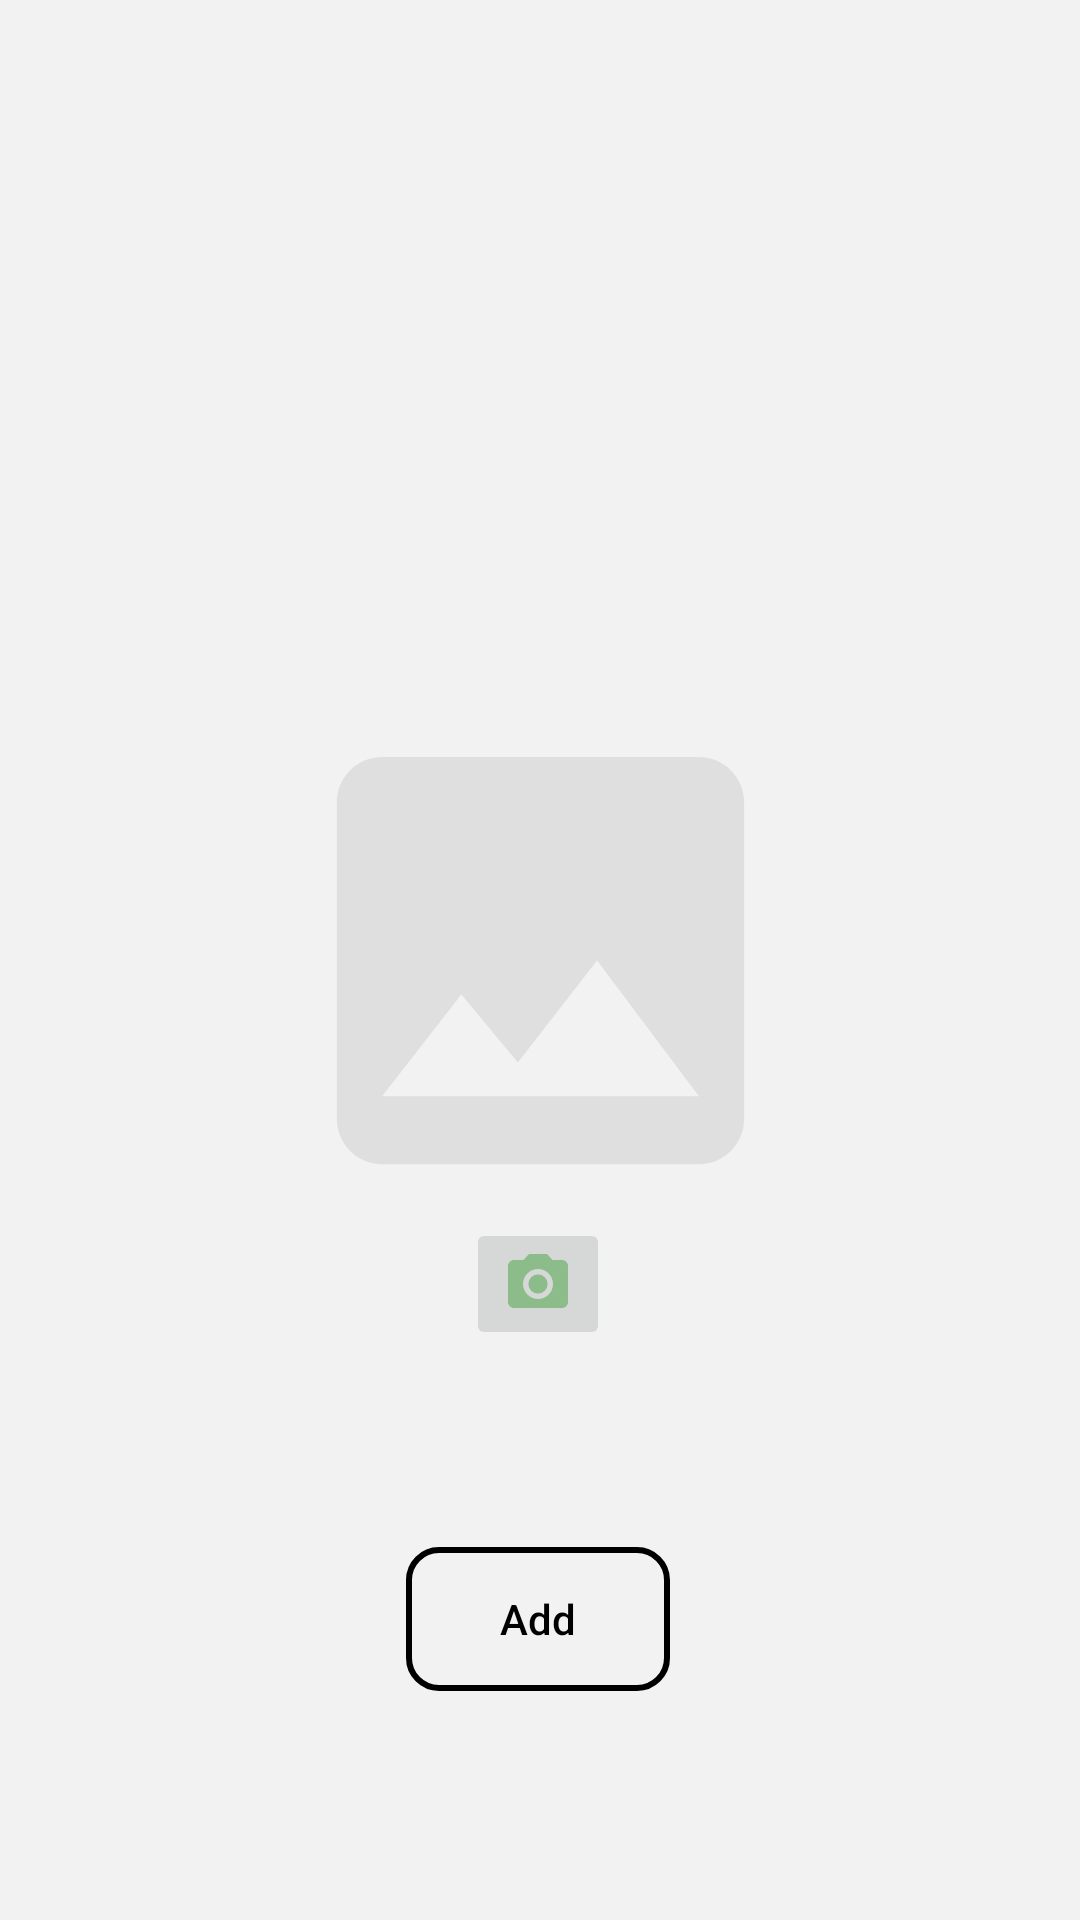

Named icons in this screenshot (1080 x 1920) and their bounding boxes, [x1=x1, y1=y1, x2=x2, y2=y2]:
camers: [x1=478, y1=1236, x2=598, y2=1332]
